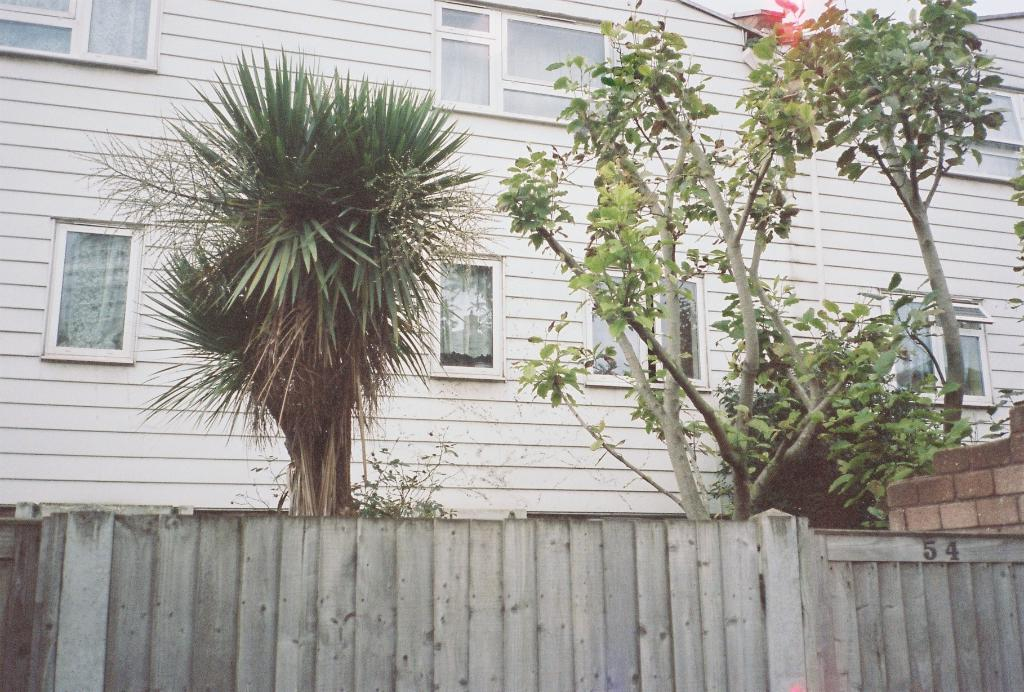Tree: (494, 0, 1024, 522)
